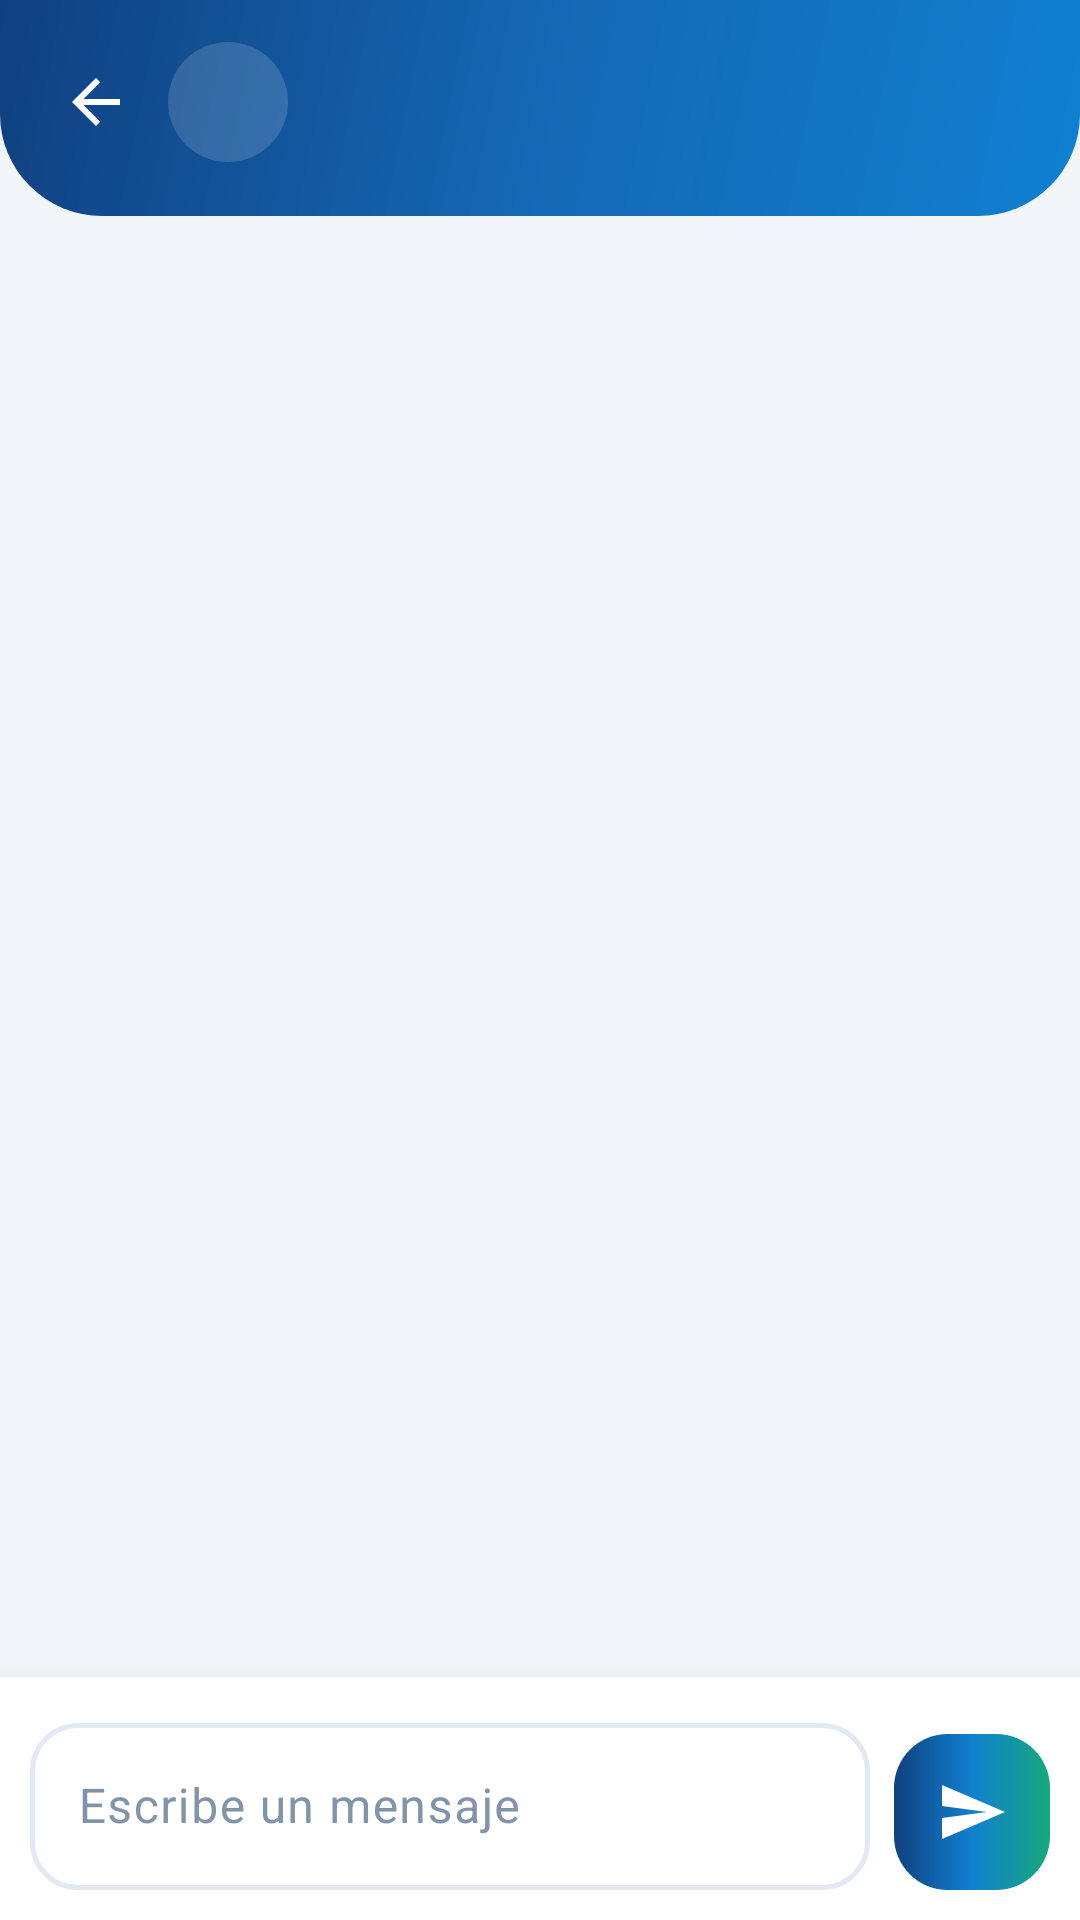

Icon bounding boxes for this 1080×1920 phone screenshot, format (x1=x1, y1=y1, x2=x2, y2=y2):
Volver: (x1=72, y1=78, x2=120, y2=126)
